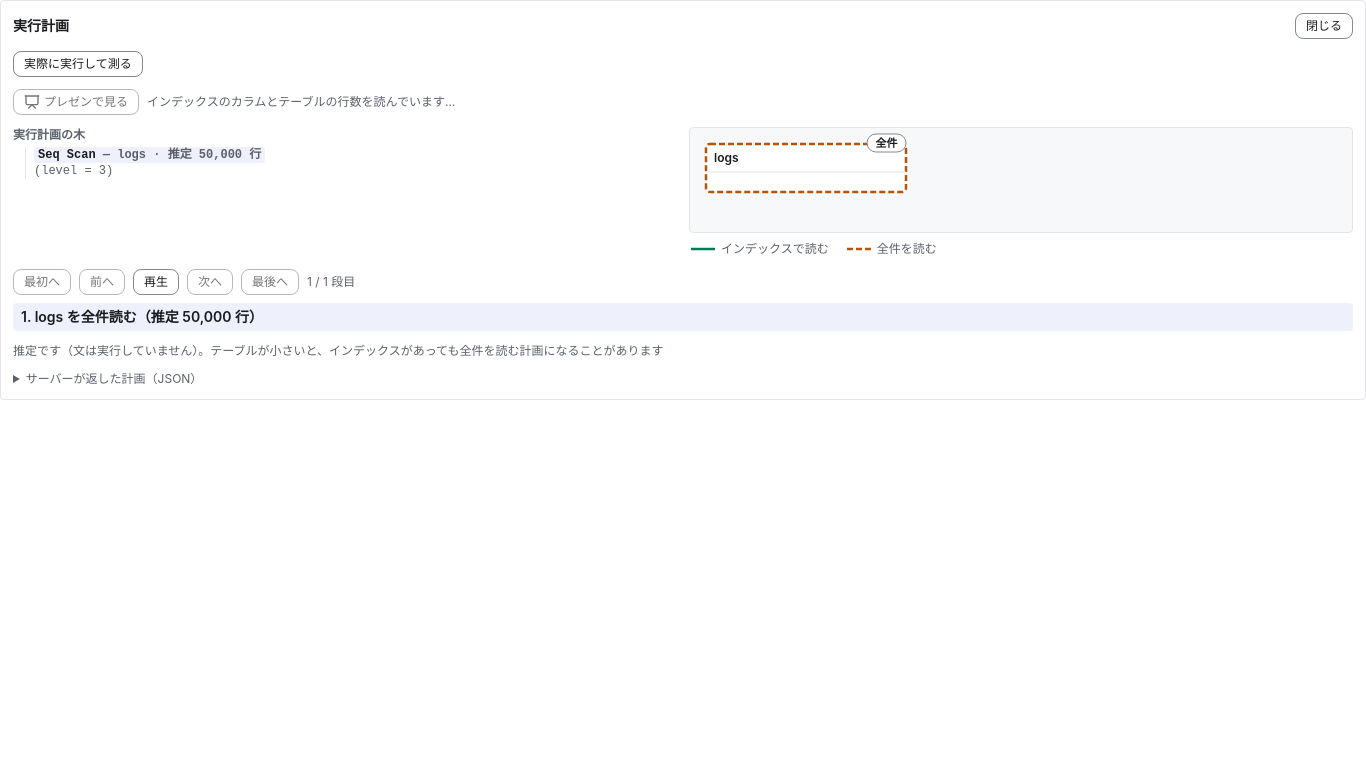
PlanView › trying an index › stops measuring again on a press, keeping the index, and gives the focus to measuring again
Step 1. Click the button "実際に実行して測る" → (78, 64), box top-left (13, 51), bottom-right (143, 77)
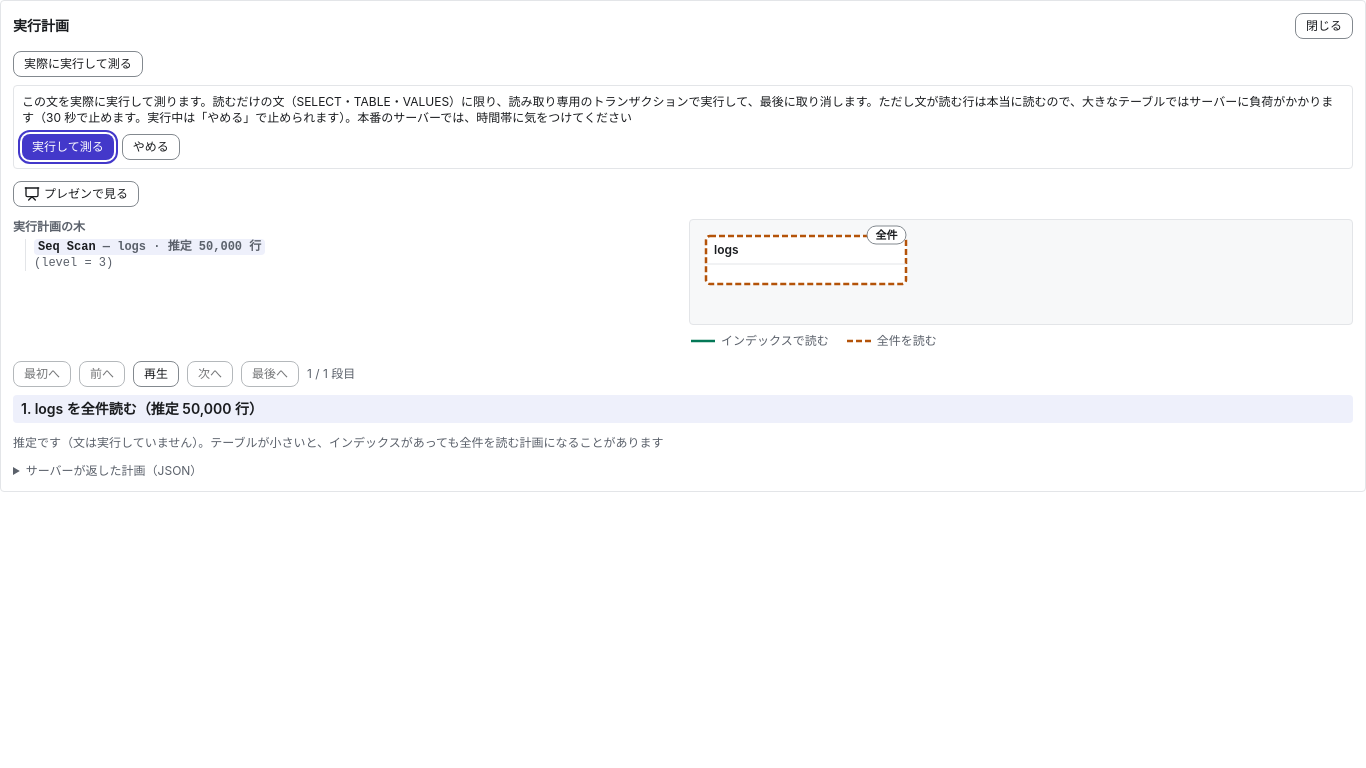
Step 2. Click the button "実行して測る" → (68, 147), box top-left (22, 134), bottom-right (114, 160)
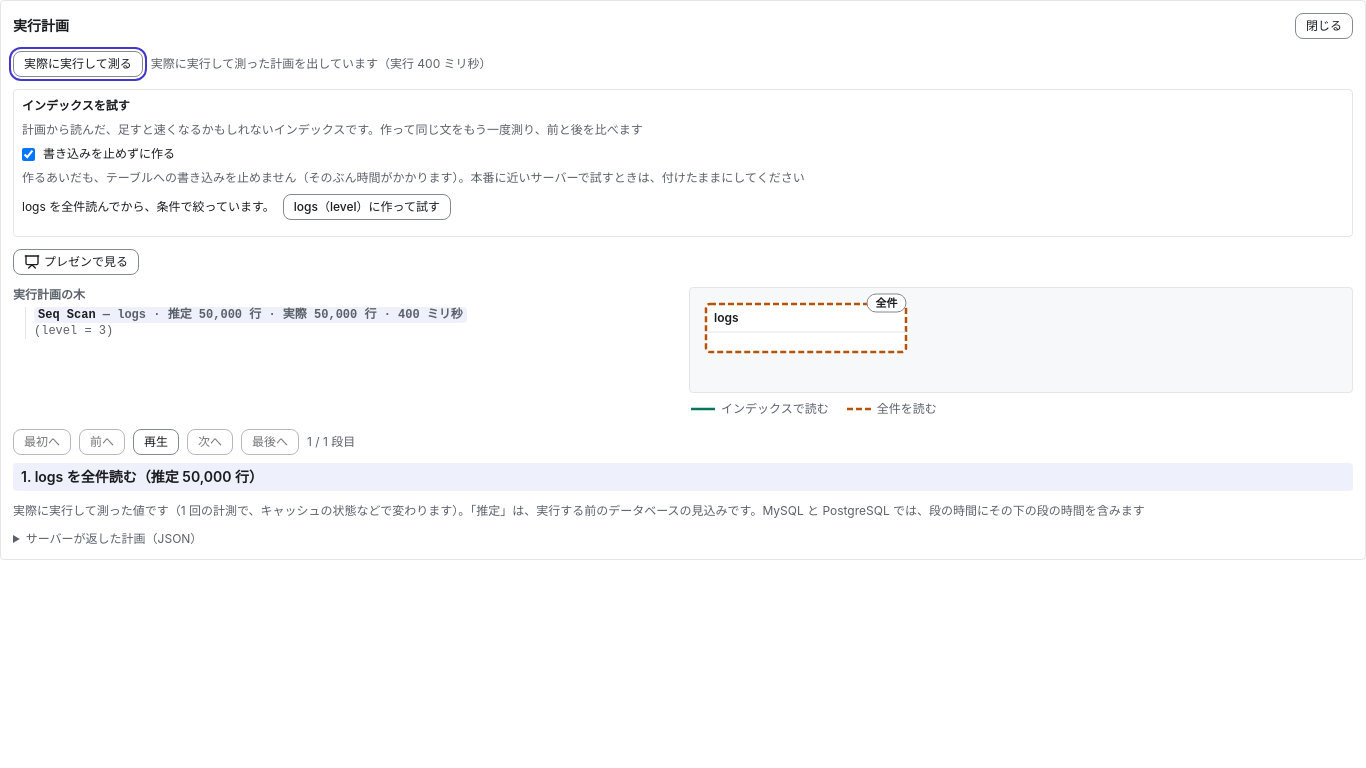
Step 3. Click the button "logs（level）に作って試す" → (367, 207), box top-left (283, 194), bottom-right (451, 220)
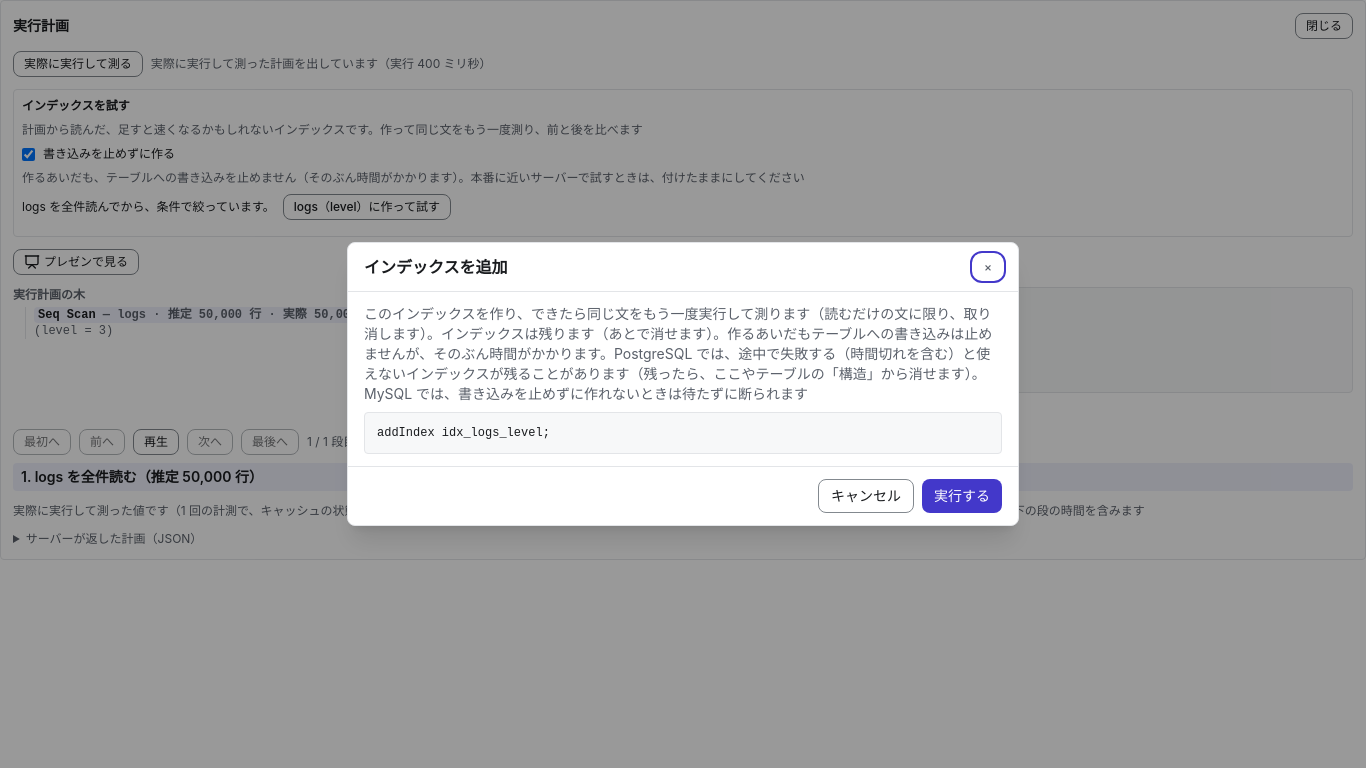
Step 4. Click the button "実行する" → (962, 496), box top-left (922, 479), bottom-right (1002, 513)
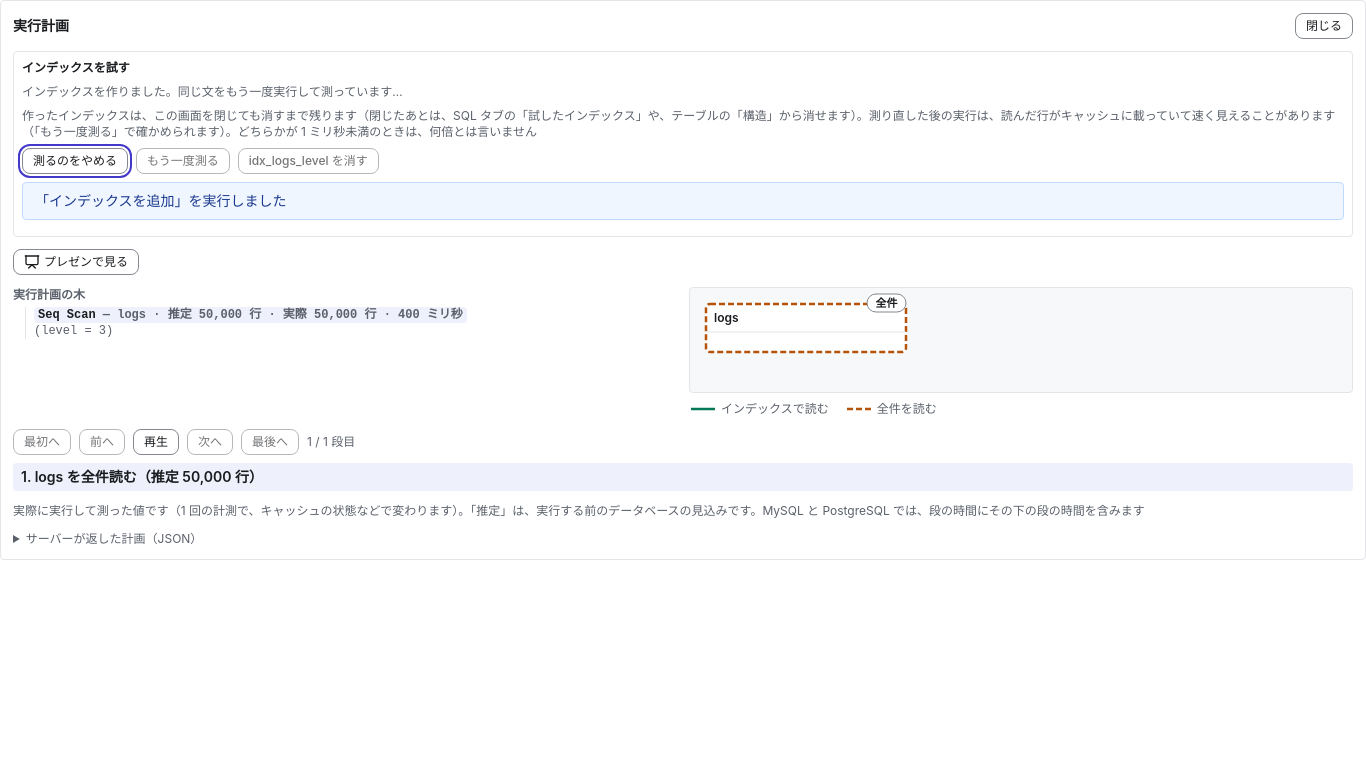
Step 5. Click the button "測るのをやめる" → (75, 161), box top-left (22, 148), bottom-right (128, 174)
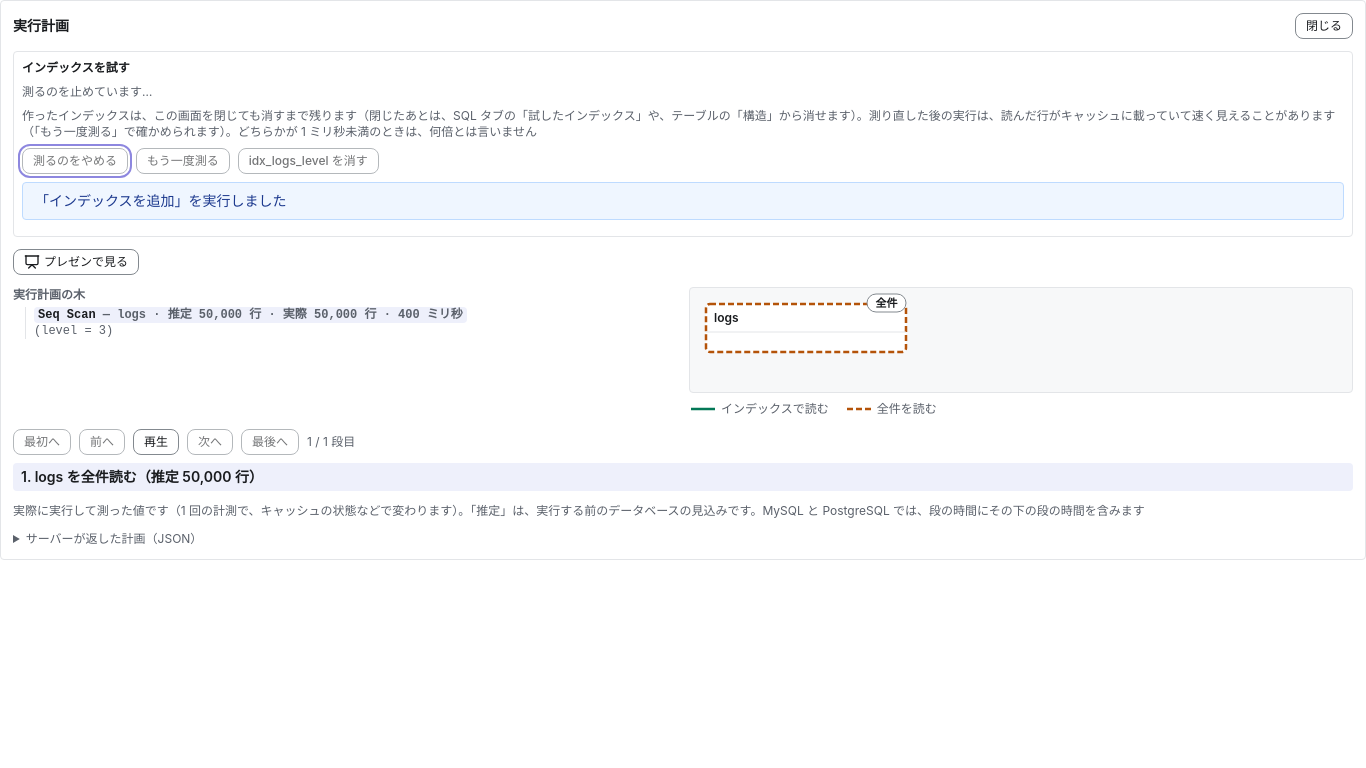
Step 6. Click the button "測るのをやめる" → (75, 161), box top-left (22, 148), bottom-right (128, 174)
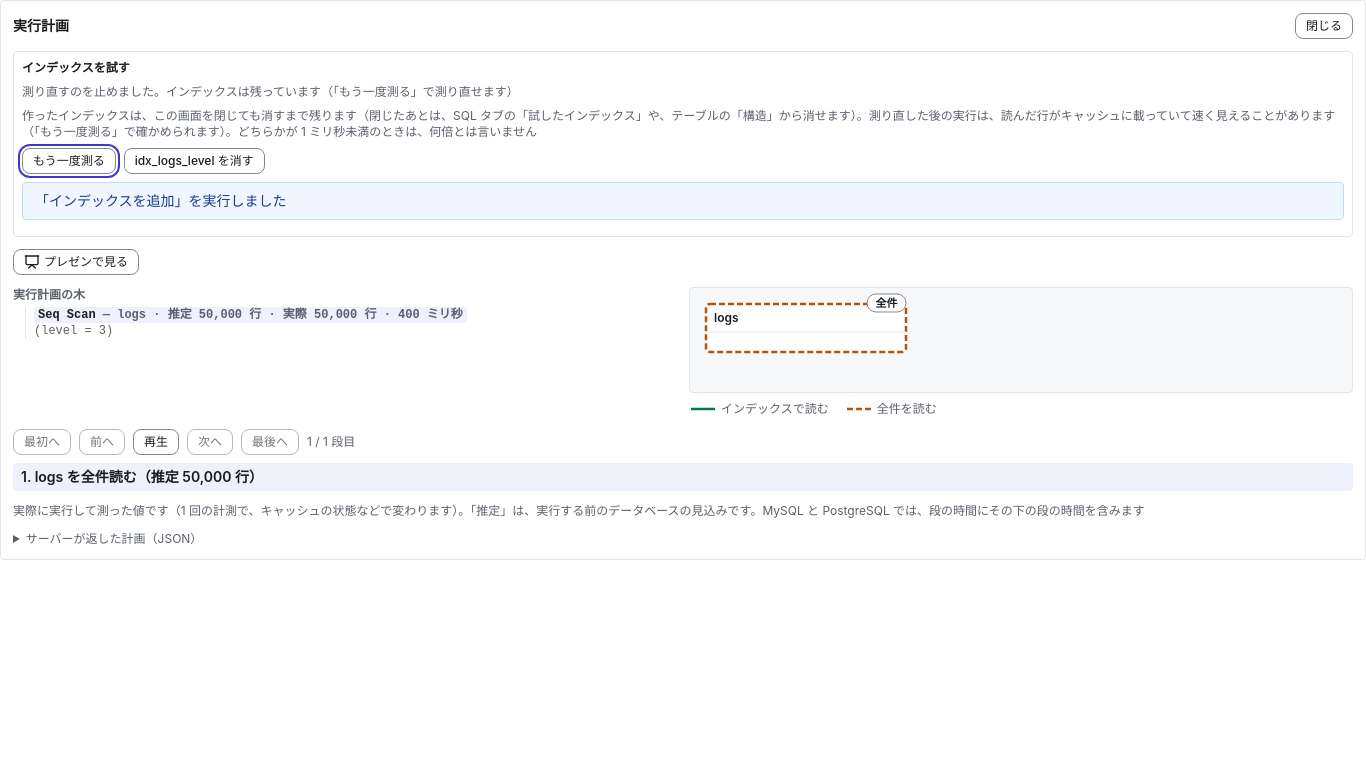
Check: the text "測り直すのを止めました。インデックスは残っています（「もう一度測る」で測り直せます）" is shown, box top-left (22, 84), bottom-right (519, 99)
Check: the button "測るのをやめる" is gone
